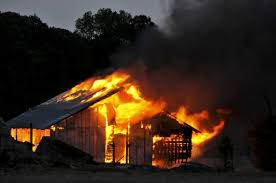fire: (63, 66, 204, 157)
